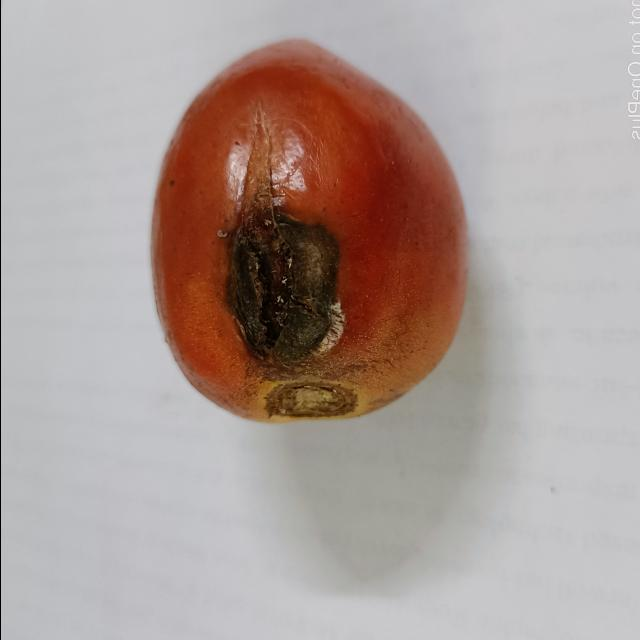Anthrocnose: (221, 209, 341, 367)
